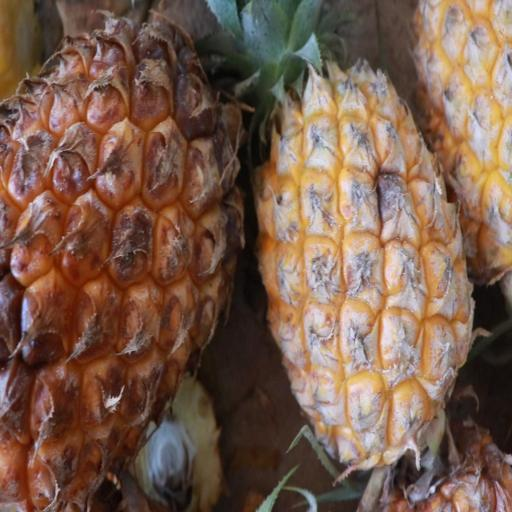Pineapple - v8 v1: (0, 0, 248, 512), (253, 10, 477, 488)
